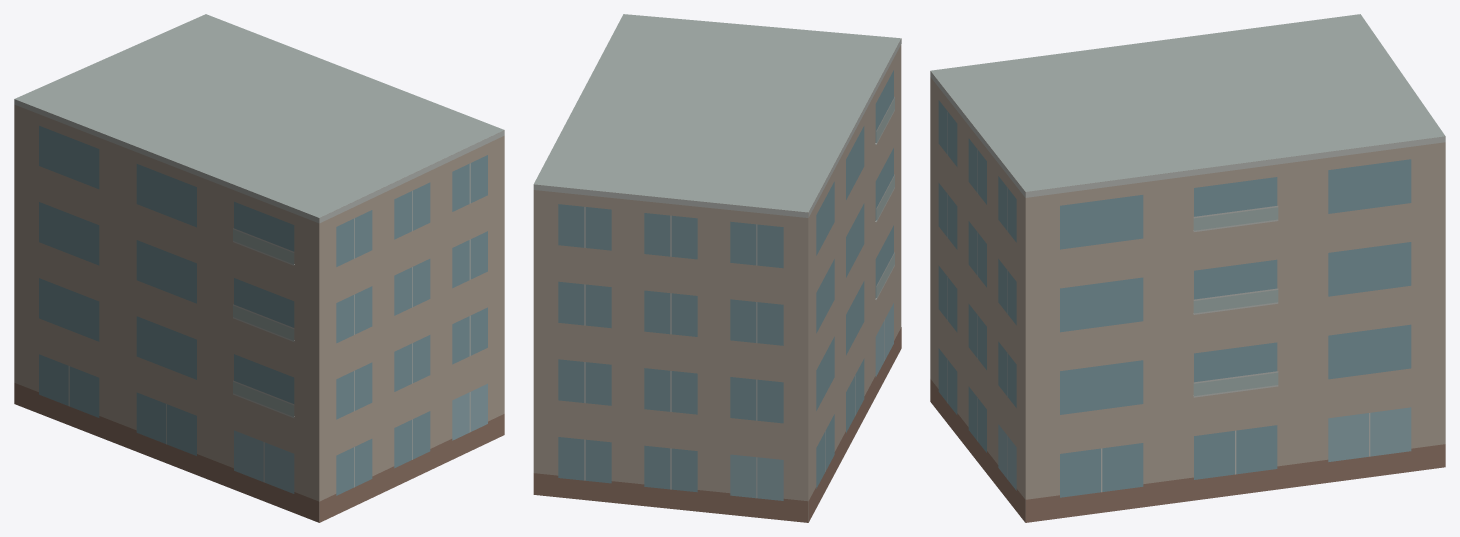
The model's file is survey-upis-32835932.glb.
3 views of the same model, side by side, from view 1: azimuth 30°, elevation 25°; view 2: azimuth 150°, elevation 25°; view 3: azimuth 270°, elevation 25° (orthographic). The views are drawn at different scales.
Visible parts, largest first — view 1: survey-upis-32835932.tmp; view 2: survey-upis-32835932.tmp; view 3: survey-upis-32835932.tmp.
Boxes of the visible parts, x1,y1,x2,y2 form: survey-upis-32835932.tmp: (14,14,504,522); survey-upis-32835932.tmp: (533,14,901,522); survey-upis-32835932.tmp: (930,14,1445,522).
Bounding box in the file's own units: 15.7 × 13.6 × 19.21.
